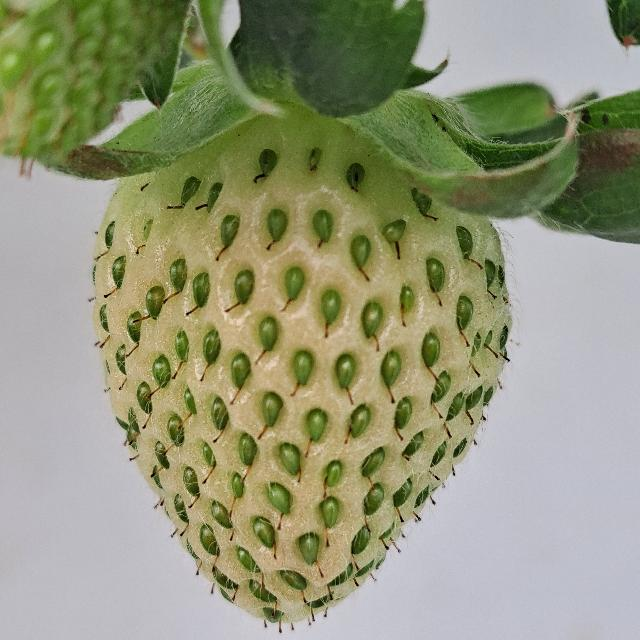Health_25: (92, 118, 512, 622)
